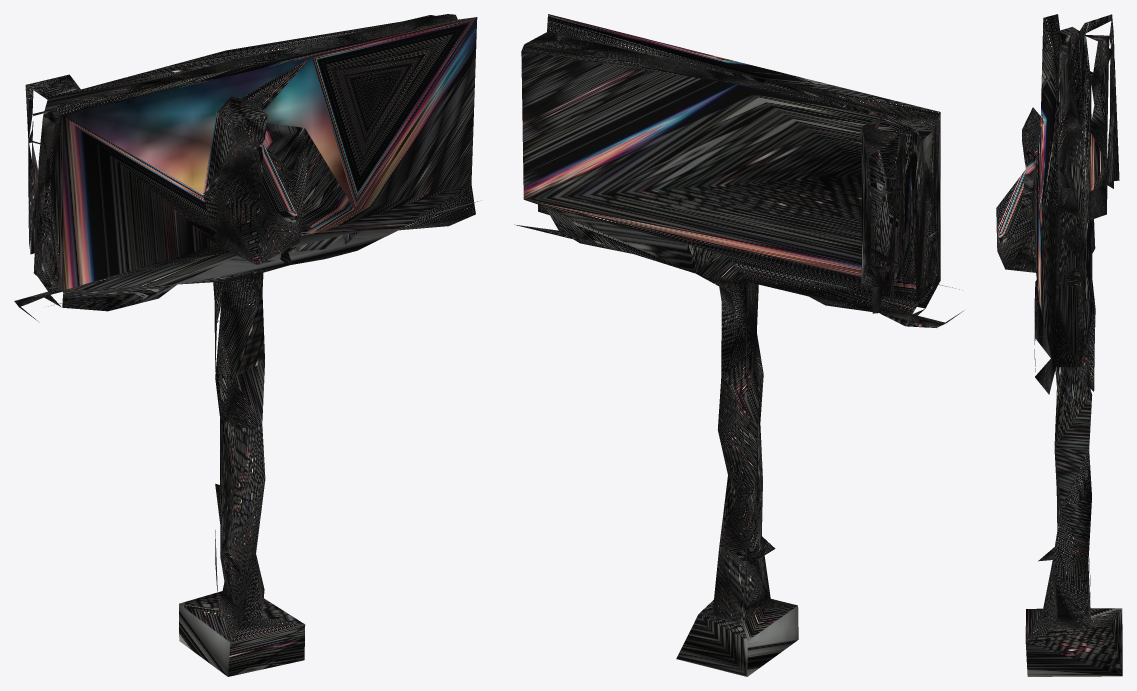
The model's file is comparafa.glb.
3 renders of one model, left to right at view 1: azimuth 30°, elevation 25°; view 2: azimuth 150°, elevation 25°; view 3: azimuth 270°, elevation 25°, orthographic. The views are drawn at different scales.
Visible parts, largest first — view 1: comparafa; view 2: comparafa; view 3: comparafa.
Part boxes in pixels (x1,y1,x2,y2): comparafa: (14, 14, 478, 676); comparafa: (514, 14, 963, 676); comparafa: (996, 14, 1122, 676).
Size of the model in its own units: 15.47 by 19.98 by 4.11.
1 material, 1 textured.
